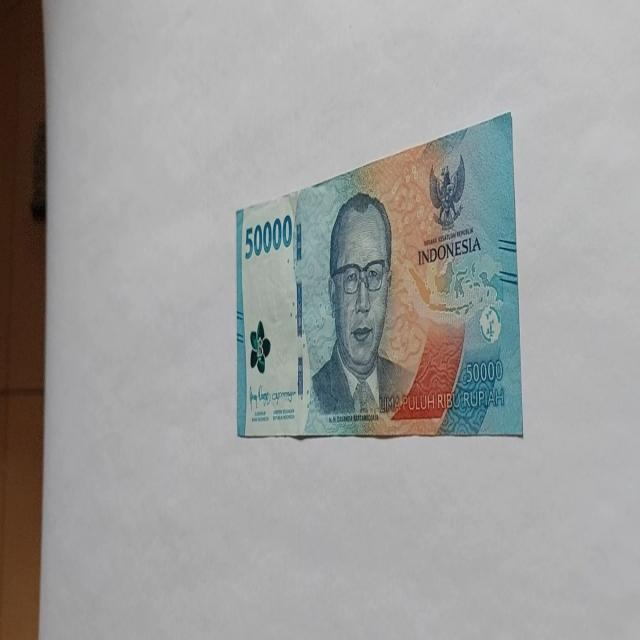lima puluh ribu rupiah: (234, 111, 524, 441), (306, 190, 412, 428)
